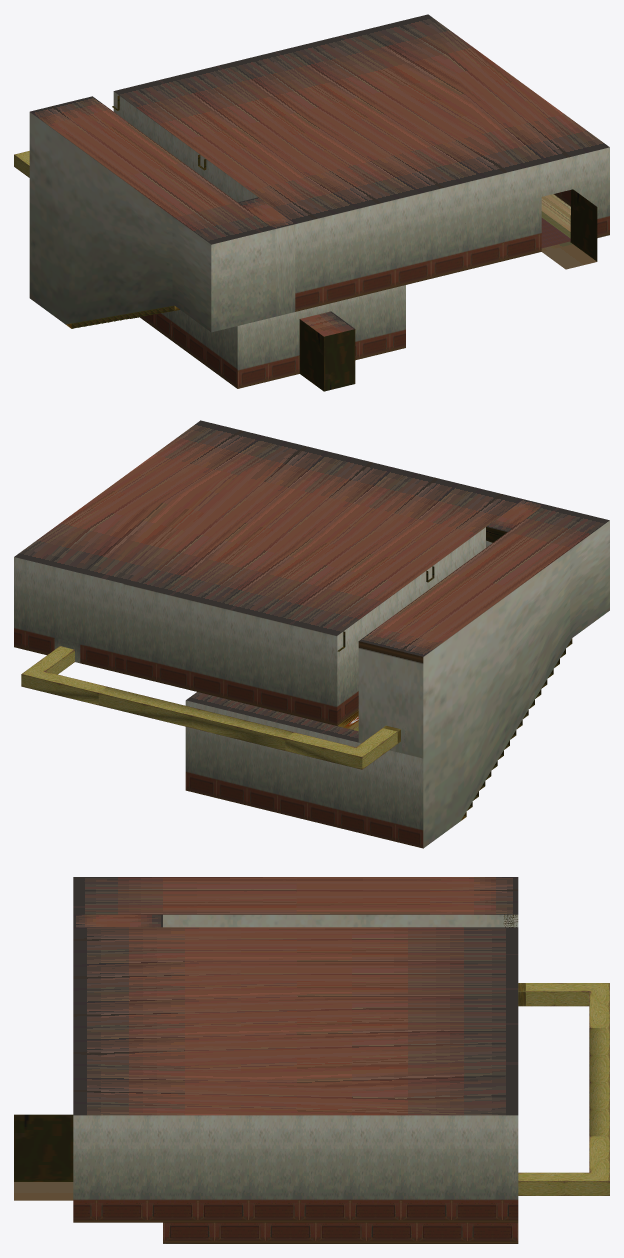
The model's file is lanzoShop2.fbx.
3 renders of one model, top to bottom at view 1: azimuth 30°, elevation 25°; view 2: azimuth 150°, elevation 25°; view 3: azimuth 270°, elevation 25°, orthographic. The views are drawn at different scales.
Visible parts, largest first — view 1: lenzoshop:Mesh; view 2: lenzoshop:Mesh; view 3: lenzoshop:Mesh.
Boxes of the visible parts, box(x1,y1,x2,y2) form: lenzoshop:Mesh: box(14, 14, 609, 391); lenzoshop:Mesh: box(14, 420, 609, 848); lenzoshop:Mesh: box(14, 877, 609, 1243).
Size of the model in its own units: 708 by 334 by 748.
Materials: 16 (16 with a texture image).
